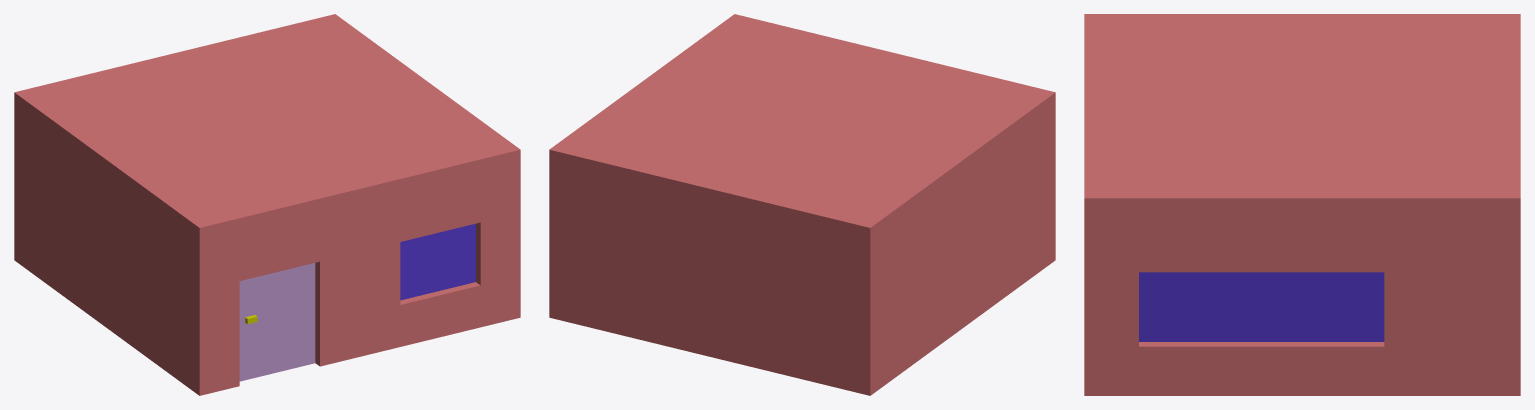
Rendered from Door.fbx.
The picture shows the model from 3 angles, left to right: view 1: azimuth 30°, elevation 25°; view 2: azimuth 150°, elevation 25°; view 3: azimuth 270°, elevation 25°; orthographic projection. The views are drawn at different scales.
Parts seen in each view (by area): view 1: Door; view 2: Door; view 3: Door.
Boxes of the visible parts, bbox=[...] form: Door: bbox=[14, 14, 520, 395]; Door: bbox=[549, 14, 1055, 395]; Door: bbox=[1084, 14, 1520, 395].
Bounding box in the file's own units: 800 × 400 × 800.
